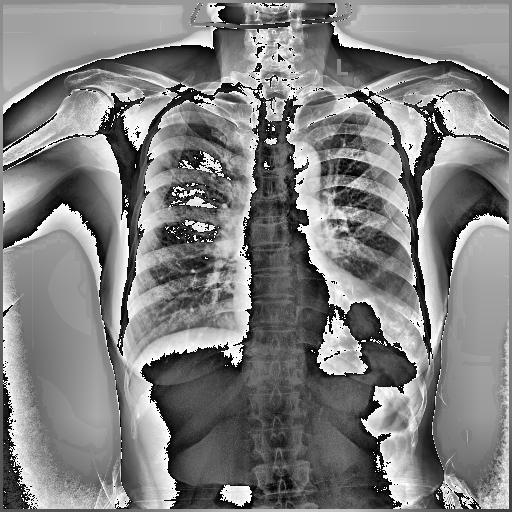0- Aortic enlargement: (278, 142, 322, 194), (278, 142, 321, 190), (281, 140, 320, 176)
3- Cardiomegaly: (232, 290, 386, 344)
7- Lung Opacity: (352, 294, 425, 362)
8- Nodule-Mass: (348, 291, 420, 357)
9- Other lesion: (350, 300, 426, 381)
